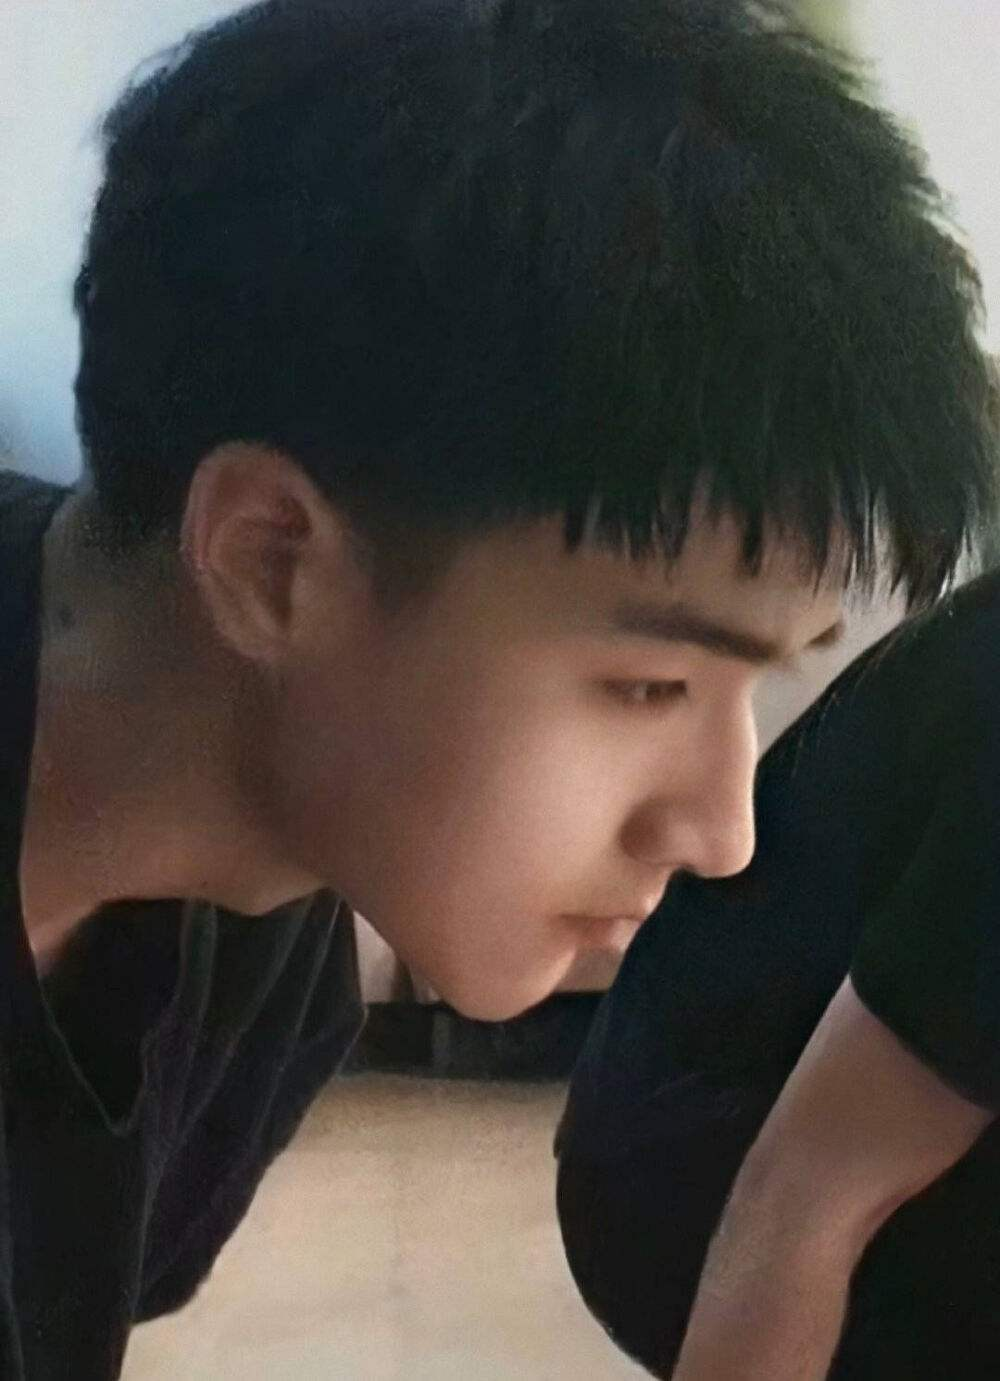person: (67, 65, 917, 1028)
